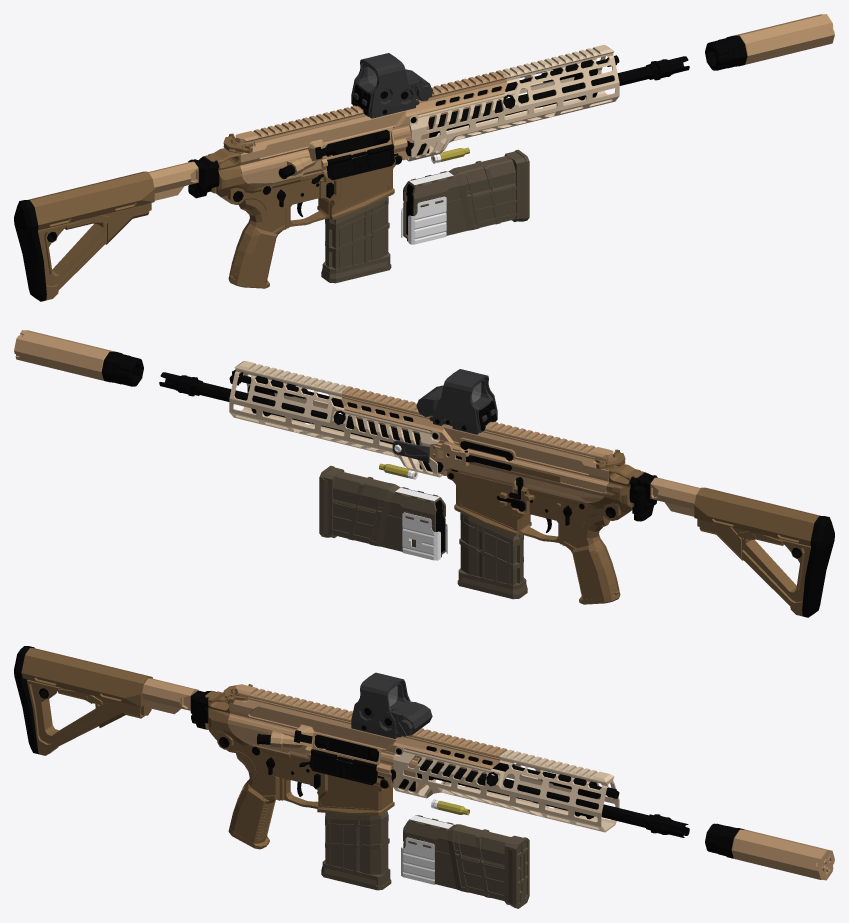
File: low-poly_sig_mcx_spear.glb
The picture shows the model from 3 angles, top to bottom: view 1: azimuth 30°, elevation 25°; view 2: azimuth 150°, elevation 25°; view 3: azimuth 330°, elevation 25°; orthographic projection.
Visible parts, largest first — view 1: sig mcx spear_15, mcx srock butt_13, 277 ar-10 mag empty 30rnd (lancer)_2, 277 ar-10 mag 30rnd (lancer).001_1, 6.8 slx suppressor_19, eotech xps2_18, sig mcx spear.001_20, mcx srock tube_11, mcx spear shutter_4, mcx bolt carrier_3, mcx stock base_12, mcx muzzle brake&sup adapter_14; view 2: sig mcx spear_15, mcx srock butt_13, 277 ar-10 mag empty 30rnd (lancer)_2, 277 ar-10 mag 30rnd (lancer).001_1, 6.8 slx suppressor_19, eotech xps2_18, sig mcx spear.001_20, mcx srock tube_11, mcx reload handle base_16, mcx muzzle brake&sup adapter_14, mcx stock base_12; view 3: sig mcx spear_15, mcx srock butt_13, 277 ar-10 mag empty 30rnd (lancer)_2, 277 ar-10 mag 30rnd (lancer).001_1, 6.8 slx suppressor_19, eotech xps2_18, sig mcx spear.001_20, mcx srock tube_11, mcx spear shutter_4, mcx bolt carrier_3, mcx muzzle brake&sup adapter_14.
Boxes of the visible parts, box(x1,y1,x2,y2) form: sig mcx spear_15: box(205, 45, 653, 286); mcx srock butt_13: box(14, 171, 154, 301); 277 ar-10 mag empty 30rnd (lancer)_2: box(401, 149, 529, 244); 277 ar-10 mag 30rnd (lancer).001_1: box(321, 155, 391, 283); 6.8 slx suppressor_19: box(705, 14, 834, 70); eotech xps2_18: box(351, 53, 432, 118); sig mcx spear.001_20: box(228, 199, 286, 288); mcx srock tube_11: box(148, 160, 207, 200); mcx spear shutter_4: box(326, 144, 394, 180); mcx bolt carrier_3: box(325, 82, 515, 156); mcx stock base_12: box(188, 156, 219, 198); mcx muzzle brake&sup adapter_14: box(646, 56, 689, 80); sig mcx spear_15: box(195, 361, 643, 602); mcx srock butt_13: box(694, 487, 834, 617); 277 ar-10 mag empty 30rnd (lancer)_2: box(319, 465, 447, 560); 277 ar-10 mag 30rnd (lancer).001_1: box(457, 513, 527, 599); 6.8 slx suppressor_19: box(14, 330, 143, 386); eotech xps2_18: box(416, 369, 497, 434); sig mcx spear.001_20: box(562, 515, 620, 604); mcx srock tube_11: box(632, 475, 700, 516); mcx reload handle base_16: box(447, 453, 560, 482); mcx muzzle brake&sup adapter_14: box(159, 372, 202, 396); mcx stock base_12: box(629, 472, 657, 521); sig mcx spear_15: box(205, 684, 648, 848); mcx srock butt_13: box(14, 646, 152, 755); 277 ar-10 mag empty 30rnd (lancer)_2: box(401, 815, 529, 908); 277 ar-10 mag 30rnd (lancer).001_1: box(321, 811, 391, 890); 6.8 slx suppressor_19: box(705, 823, 834, 880); eotech xps2_18: box(351, 672, 432, 738); sig mcx spear.001_20: box(228, 751, 280, 849); mcx srock tube_11: box(142, 678, 208, 719); mcx spear shutter_4: box(309, 749, 377, 785); mcx bolt carrier_3: box(314, 734, 515, 771); mcx muzzle brake&sup adapter_14: box(646, 814, 689, 837).
Bounding box in the file's own units: 11.66 × 2.84 × 0.6668.
